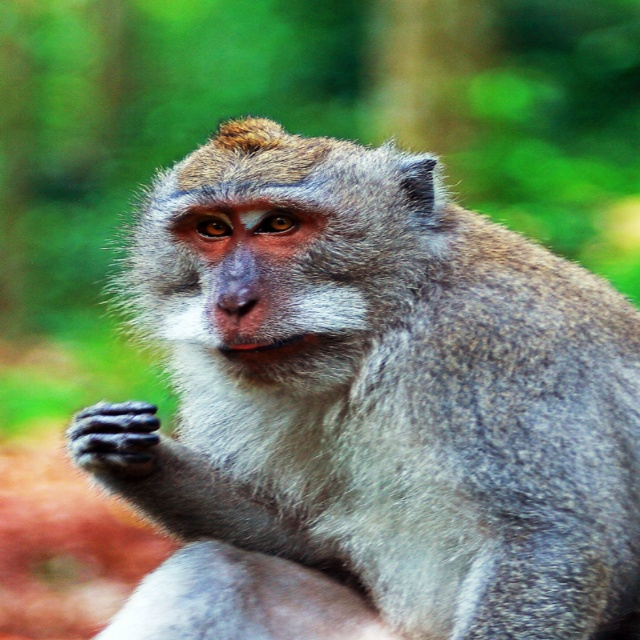Monkey: (49, 144, 640, 640)
